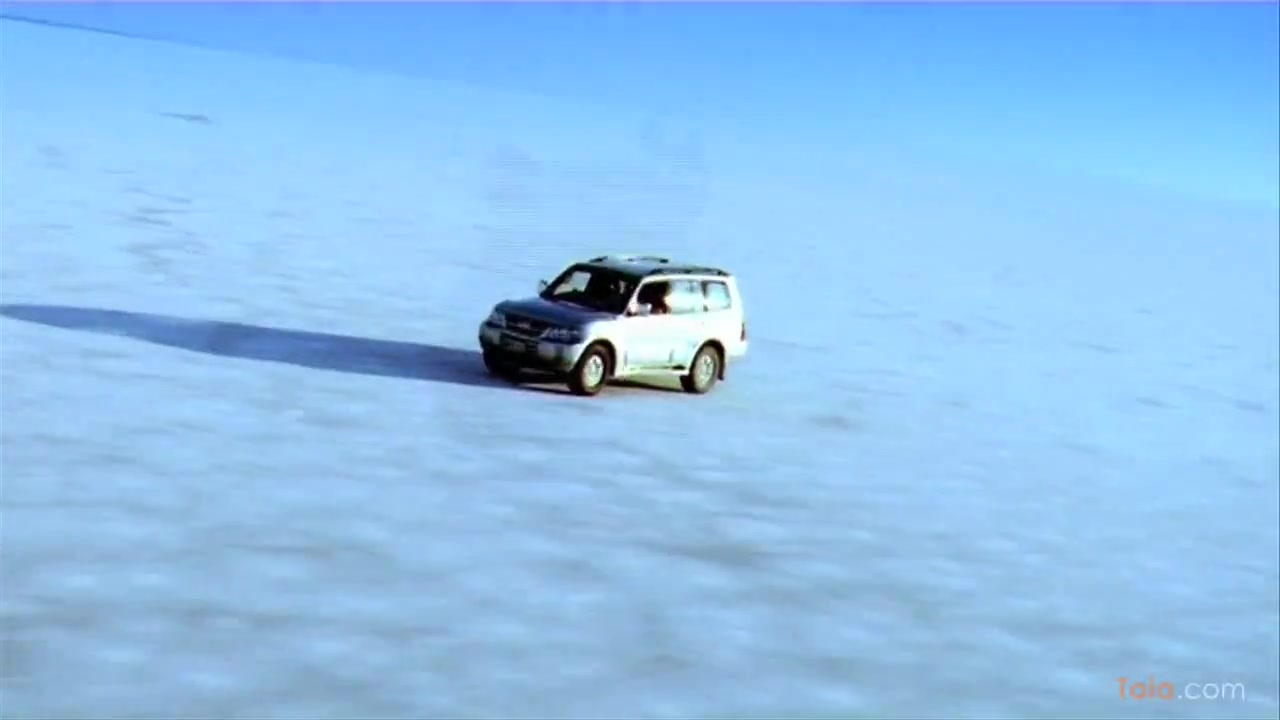car: (477, 248, 751, 398)
